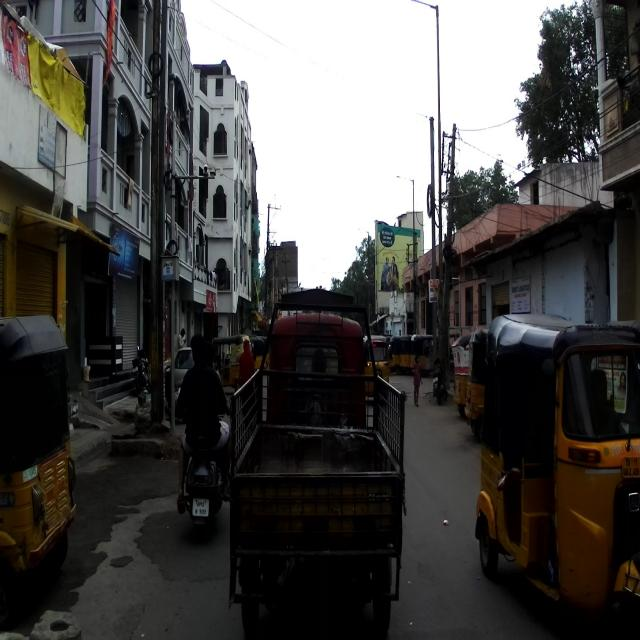autorickshaw: (224, 292, 407, 640), (473, 310, 640, 639), (0, 313, 78, 616)
scooter: (177, 407, 233, 546)
